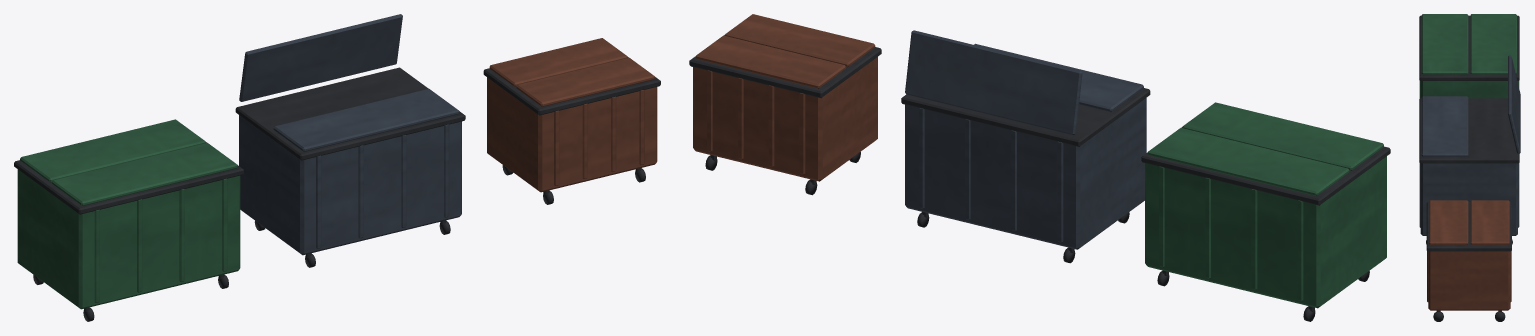
The model's file is dumpster.glb.
3 renders of one model, left to right at view 1: azimuth 30°, elevation 25°; view 2: azimuth 150°, elevation 25°; view 3: azimuth 270°, elevation 25°, orthographic. The views are drawn at different scales.
Parts seen in each view (by area): view 1: dumpster_v2, dumpster_v1, dumpster_v3; view 2: dumpster_v2, dumpster_v1, dumpster_v3; view 3: dumpster_v2, dumpster_v3, dumpster_v1.
Part boxes in pixels (left/top/right/bottom): dumpster_v2: left=235, top=14, right=465, bottom=267; dumpster_v1: left=14, top=119, right=243, bottom=321; dumpster_v3: left=483, top=38, right=660, bottom=204; dumpster_v2: left=901, top=30, right=1150, bottom=263; dumpster_v1: left=1141, top=102, right=1390, bottom=321; dumpster_v3: left=689, top=14, right=881, bottom=195; dumpster_v2: left=1419, top=55, right=1520, bottom=244; dumpster_v3: left=1426, top=200, right=1511, bottom=321; dumpster_v1: left=1419, top=14, right=1519, bottom=98.
Size of the model in its own units: 6.89 by 2.02 by 1.36.
Materials: 2 (2 with a texture image).
